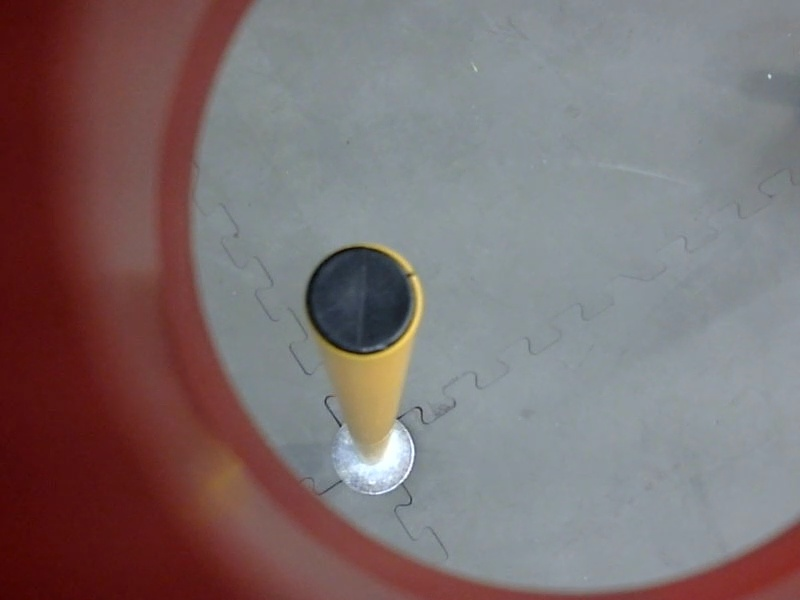tip: (297, 235, 429, 367)
